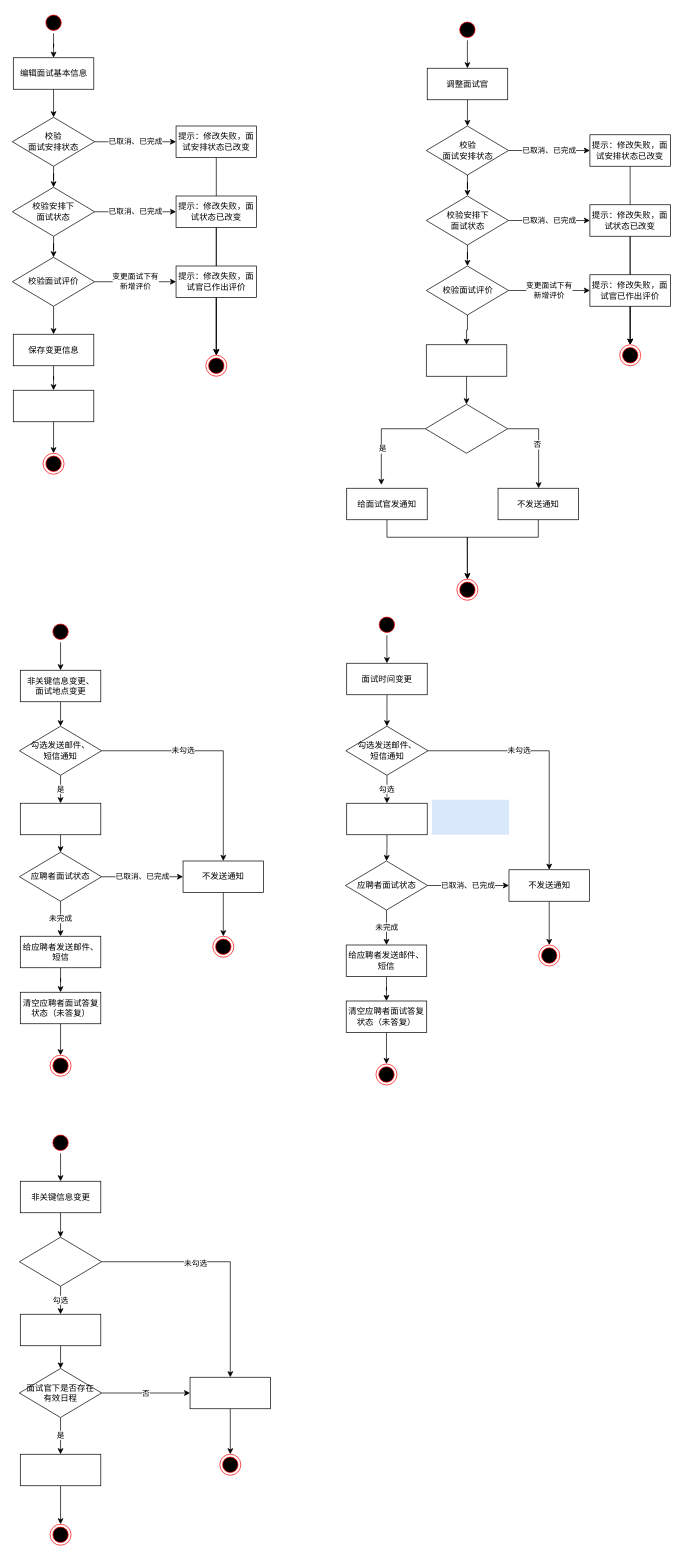
This 683x1558 diagram has some shape labels left out. Each missing label, with the centre of its shape:
1、分组时间调整 2、应聘者调换组: (470,816)
不发通知: (230,1393)
保存调整的面试官: (466,360)
勾选给面试官发邮件、短信通知: (60,1261)
勾选通知调整 的面试官: (466,428)
根据勾选和变更内容给应聘者、面试官、抄送人发通知: (53,406)
给面试官发送邮件、短信通知: (60,1470)
获取面试安排下所有面试官: (60,1330)
获取面试安排下的全部应聘者: (60,819)
获取面试时间变更的应聘者: (386,819)
